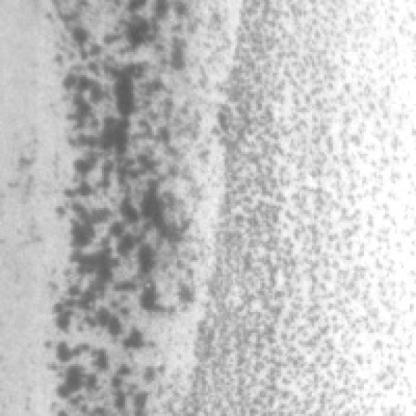pitted_surface: (193, 0, 412, 412), (44, 0, 204, 412)
